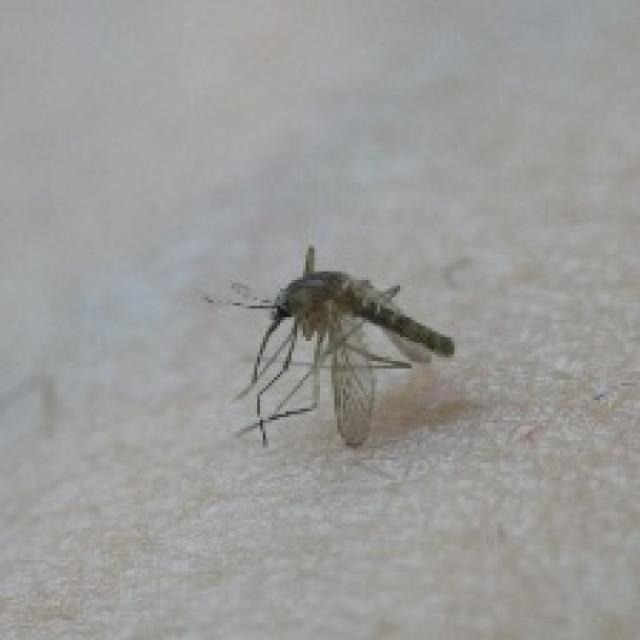culex: (200, 240, 454, 449)
